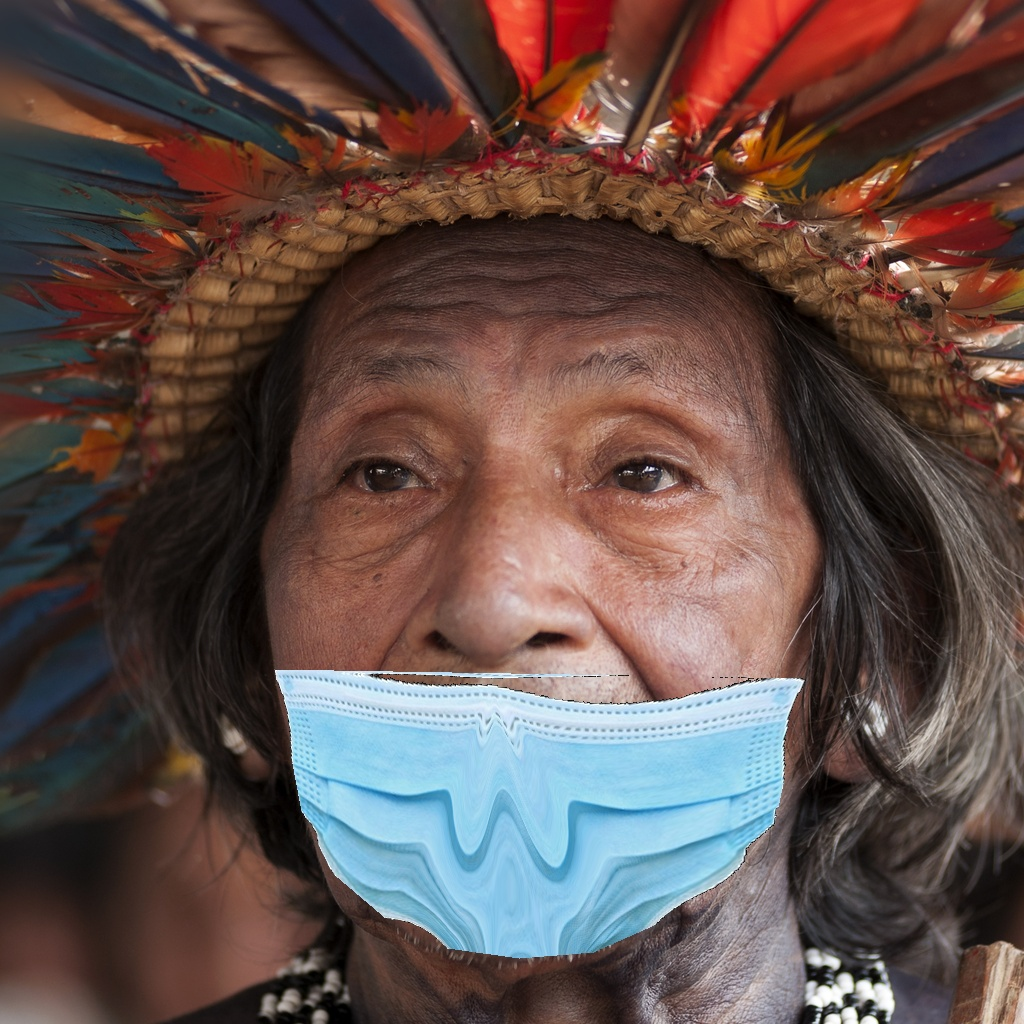mask_weared_incorrect: (250, 378, 823, 979)
